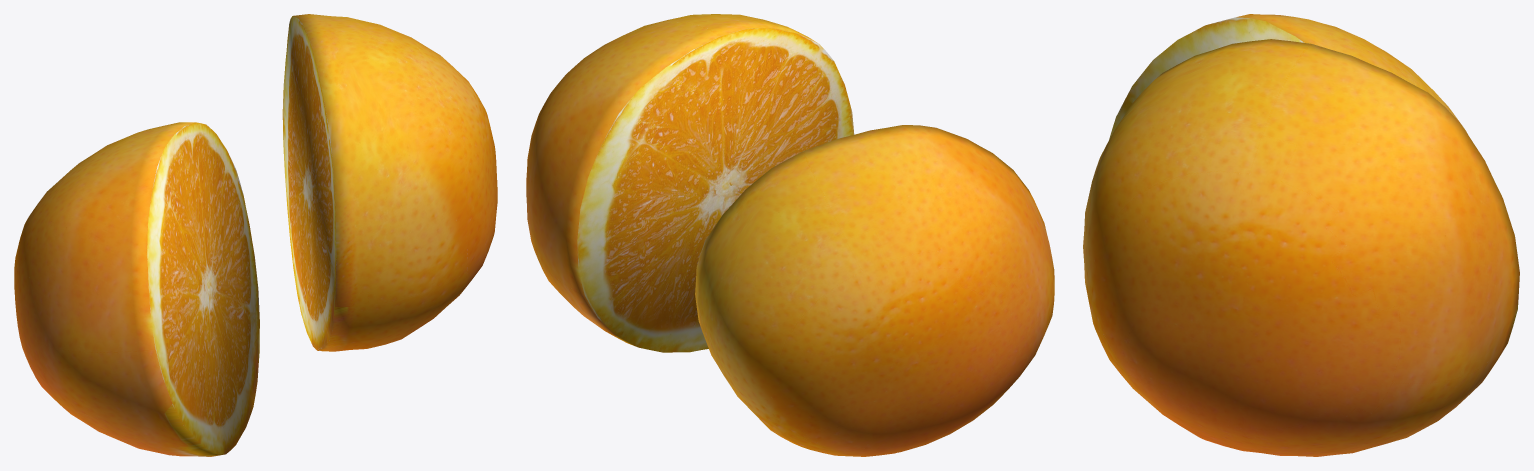
File: sliced_orange.glb
3 views of the same model, side by side, from view 1: azimuth 30°, elevation 25°; view 2: azimuth 150°, elevation 25°; view 3: azimuth 270°, elevation 25° (orthographic). The views are drawn at different scales.
Visible parts, largest first — view 1: Sphere.001_Material.004_0, Sphere.007_Material.004_0; view 2: Sphere.001_Material.004_0, Sphere.007_Material.004_0; view 3: Sphere.007_Material.004_0, Sphere.001_Material.004_0.
Part boxes in pixels (x1=…): Sphere.001_Material.004_0: x1=14, y1=122, x2=259, y2=456; Sphere.007_Material.004_0: x1=282, y1=14, x2=497, y2=351; Sphere.001_Material.004_0: x1=695, y1=125, x2=1054, y2=456; Sphere.007_Material.004_0: x1=526, y1=14, x2=854, y2=352; Sphere.007_Material.004_0: x1=1083, y1=39, x2=1519, y2=456; Sphere.001_Material.004_0: x1=1109, y1=14, x2=1467, y2=139.
Size of the model in its own units: 2.9 by 2.27 by 1.9.
1 material, 1 textured.
